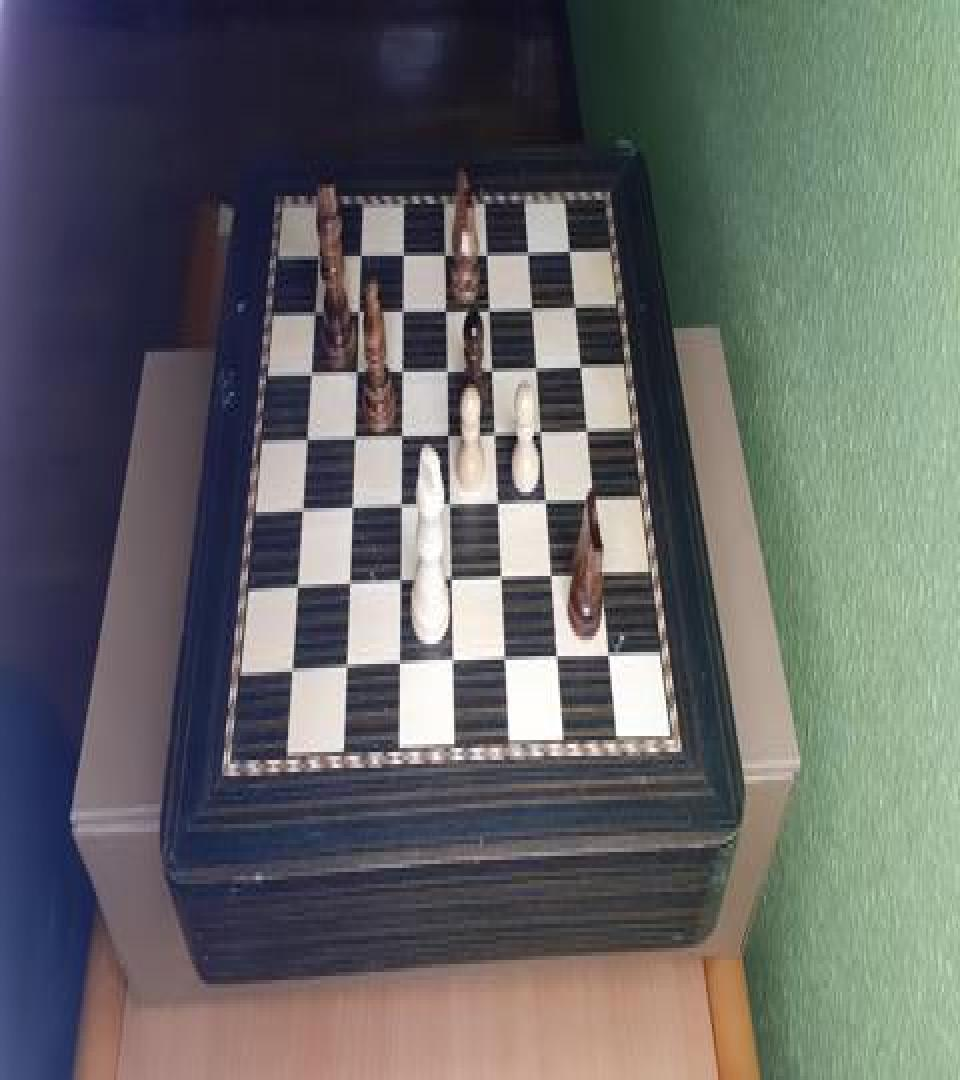xcorner: (311, 234, 323, 258), (307, 292, 319, 316), (303, 354, 315, 378), (299, 422, 311, 446), (295, 494, 307, 518), (290, 574, 302, 598), (285, 660, 297, 684), (354, 234, 366, 258), (352, 292, 364, 316), (350, 354, 362, 378), (348, 420, 360, 444), (345, 494, 357, 518), (343, 572, 355, 596), (340, 658, 352, 682), (396, 234, 408, 258), (396, 290, 408, 314), (396, 352, 408, 376), (395, 420, 407, 444), (395, 492, 407, 516), (395, 570, 407, 594), (394, 656, 406, 680), (439, 234, 451, 258), (440, 290, 452, 314), (441, 352, 453, 376), (443, 418, 455, 442), (444, 490, 456, 514), (446, 568, 458, 592), (448, 654, 460, 678), (481, 232, 493, 256), (484, 290, 496, 314), (487, 352, 499, 376), (490, 418, 502, 442), (493, 490, 505, 514), (497, 566, 509, 590), (501, 652, 513, 676), (523, 232, 535, 256), (527, 290, 539, 314), (532, 350, 544, 374), (537, 416, 549, 440), (542, 488, 554, 512), (548, 564, 560, 588), (554, 648, 566, 672), (564, 232, 576, 256), (570, 290, 582, 314), (576, 350, 588, 374), (583, 416, 595, 440), (590, 486, 602, 510), (598, 564, 610, 588), (606, 646, 618, 670)
